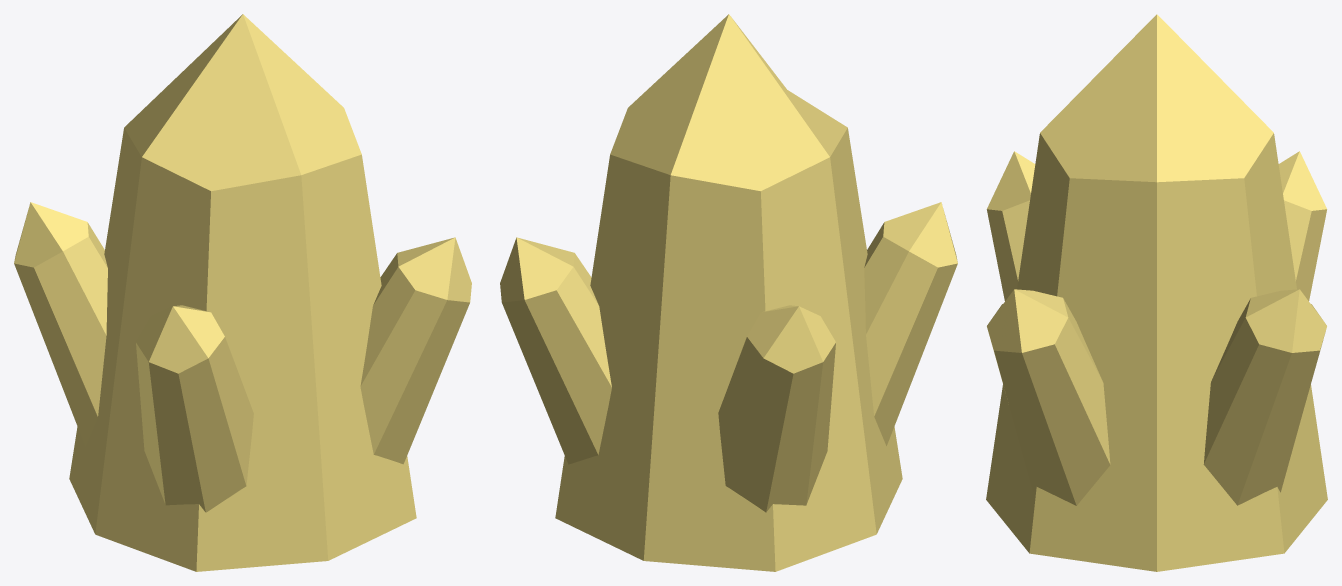
File: Aztec Mining Game Crystal cluster.fbx
3 renders of one model, left to right at view 1: azimuth 30°, elevation 25°; view 2: azimuth 150°, elevation 25°; view 3: azimuth 270°, elevation 25°, orthographic.
Visible parts, largest first — view 1: Crystal Culture.001; view 2: Crystal Culture.001; view 3: Crystal Culture.001.
Boxes of the visible parts, x1,y1,x2,y2 form: Crystal Culture.001: [14, 14, 471, 571]; Crystal Culture.001: [500, 14, 957, 571]; Crystal Culture.001: [986, 14, 1327, 571].
Size of the model in its own units: 91.57 by 131 by 83.69.
